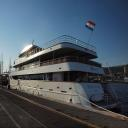cruises: (9, 36, 123, 113)
